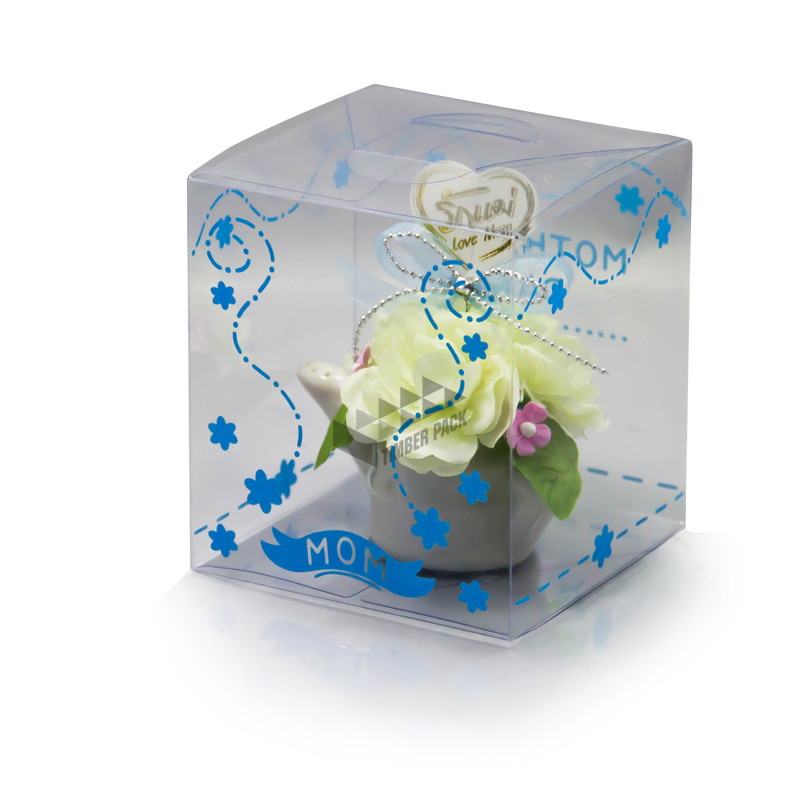PlasticBox: (181, 77, 695, 654)
